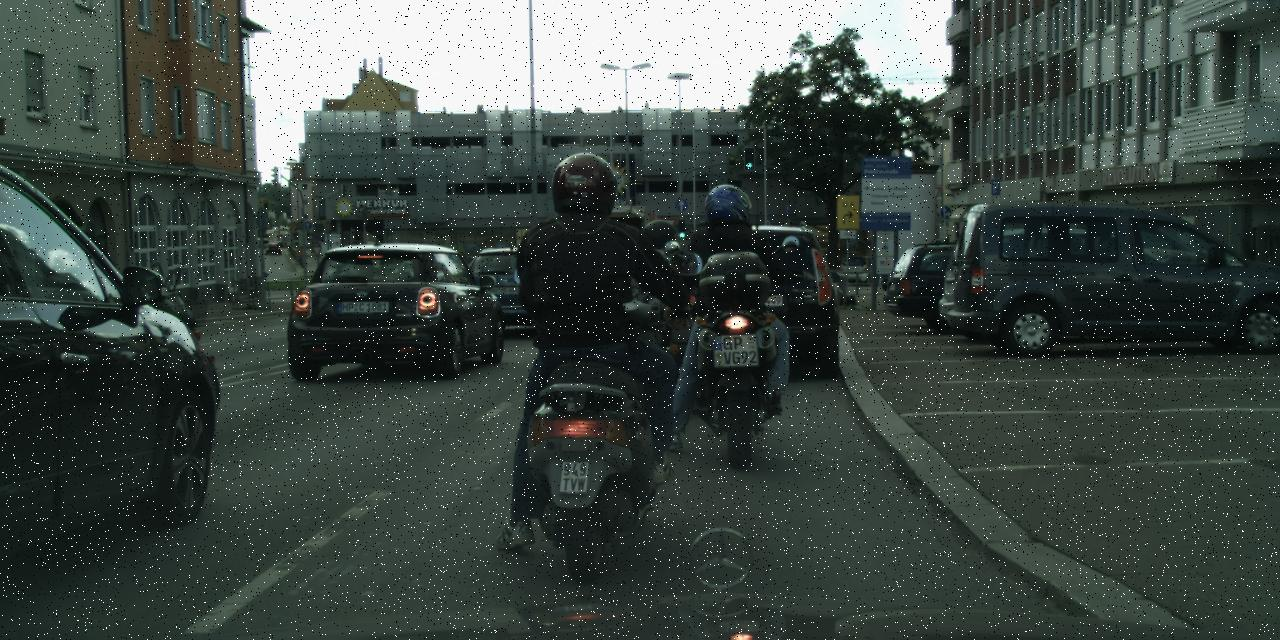ped: (509, 150, 657, 510), (676, 184, 776, 427), (626, 218, 696, 388)
